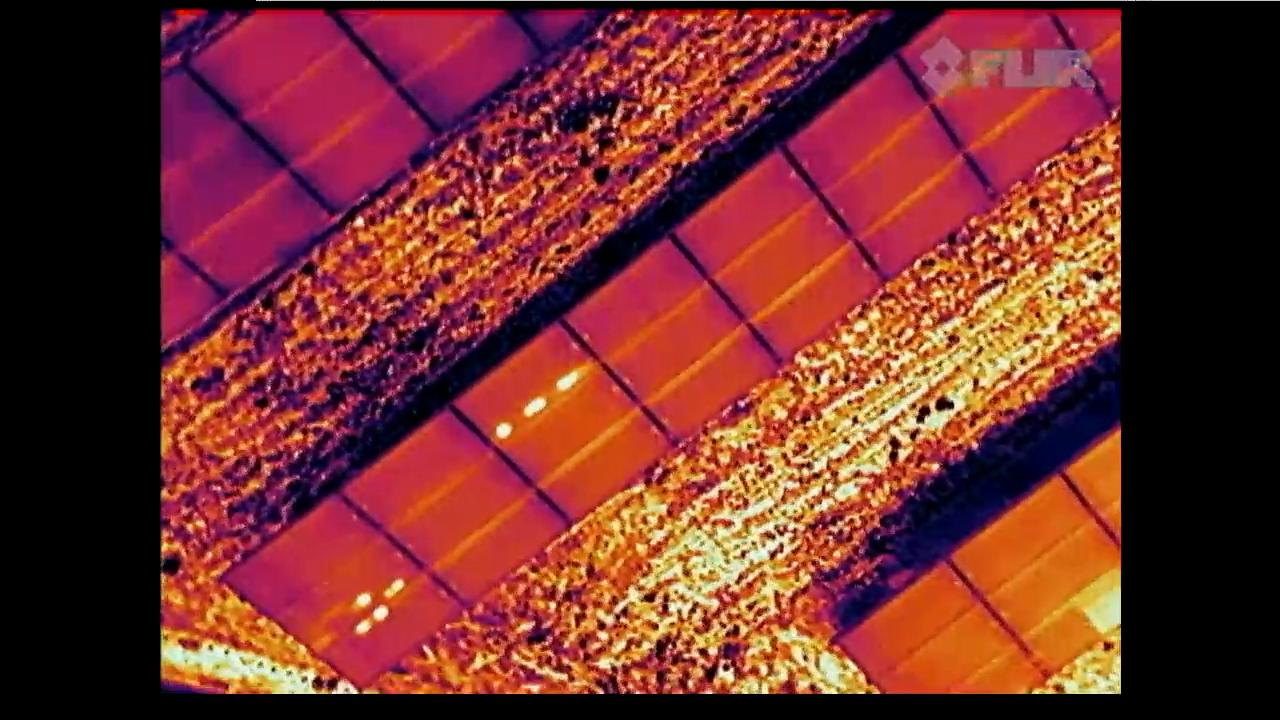hotspot: (449, 318, 677, 522), (223, 497, 463, 681)
